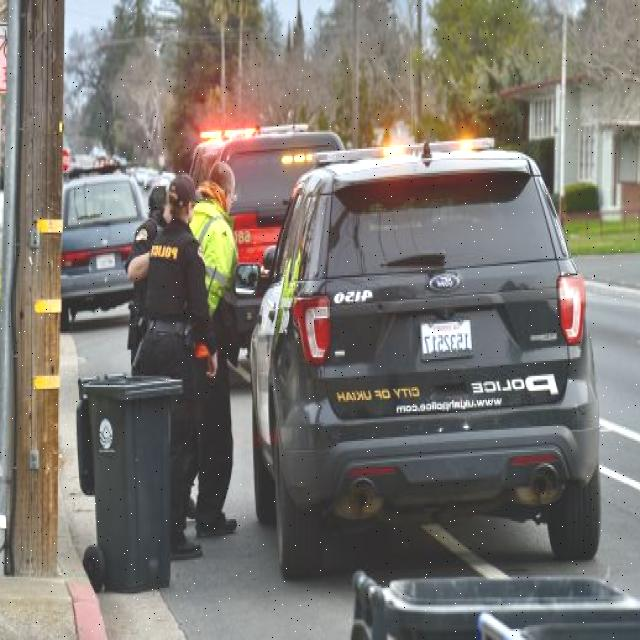police: (123, 177, 213, 563)
